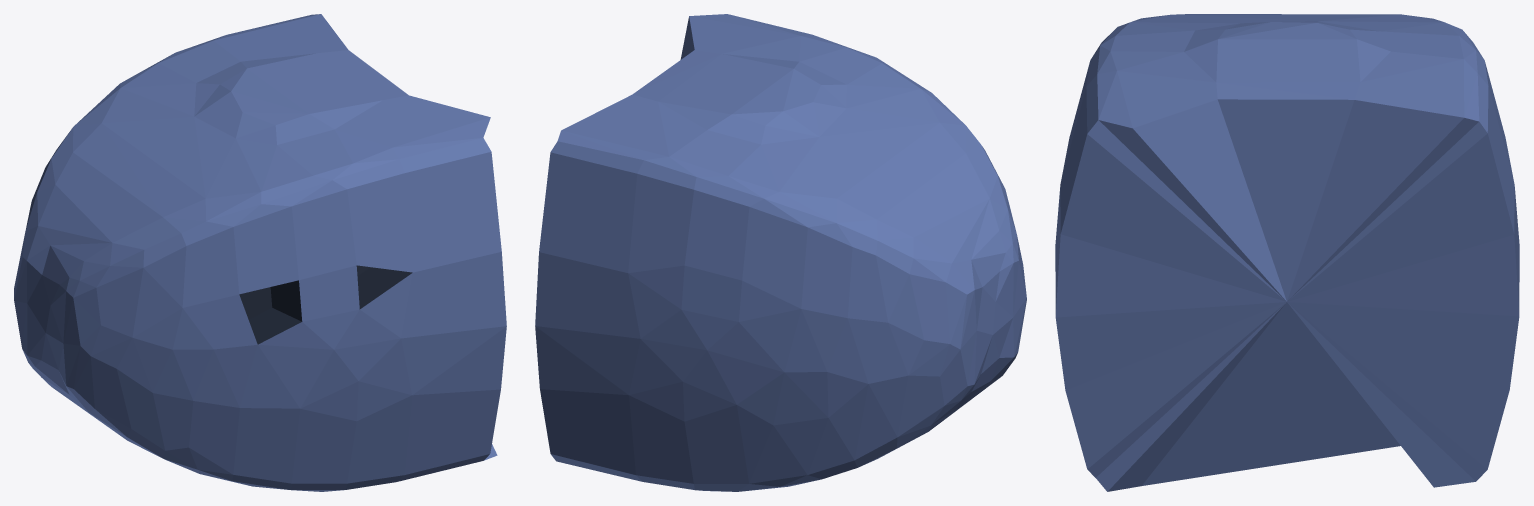
The model's file is parte delantera ocarina nivel 1 .fbx.
3 renders of one model, left to right at view 1: azimuth 30°, elevation 25°; view 2: azimuth 150°, elevation 25°; view 3: azimuth 270°, elevation 25°, orthographic. The views are drawn at different scales.
Visible parts, largest first — view 1: frente ocarina; view 2: frente ocarina; view 3: frente ocarina.
Part boxes in pixels (box(x1,y1,x2,y2)): frente ocarina: box(14, 14, 506, 491); frente ocarina: box(535, 14, 1026, 491); frente ocarina: box(1055, 14, 1519, 491).
Size of the model in its own units: 234 by 204 by 225.
